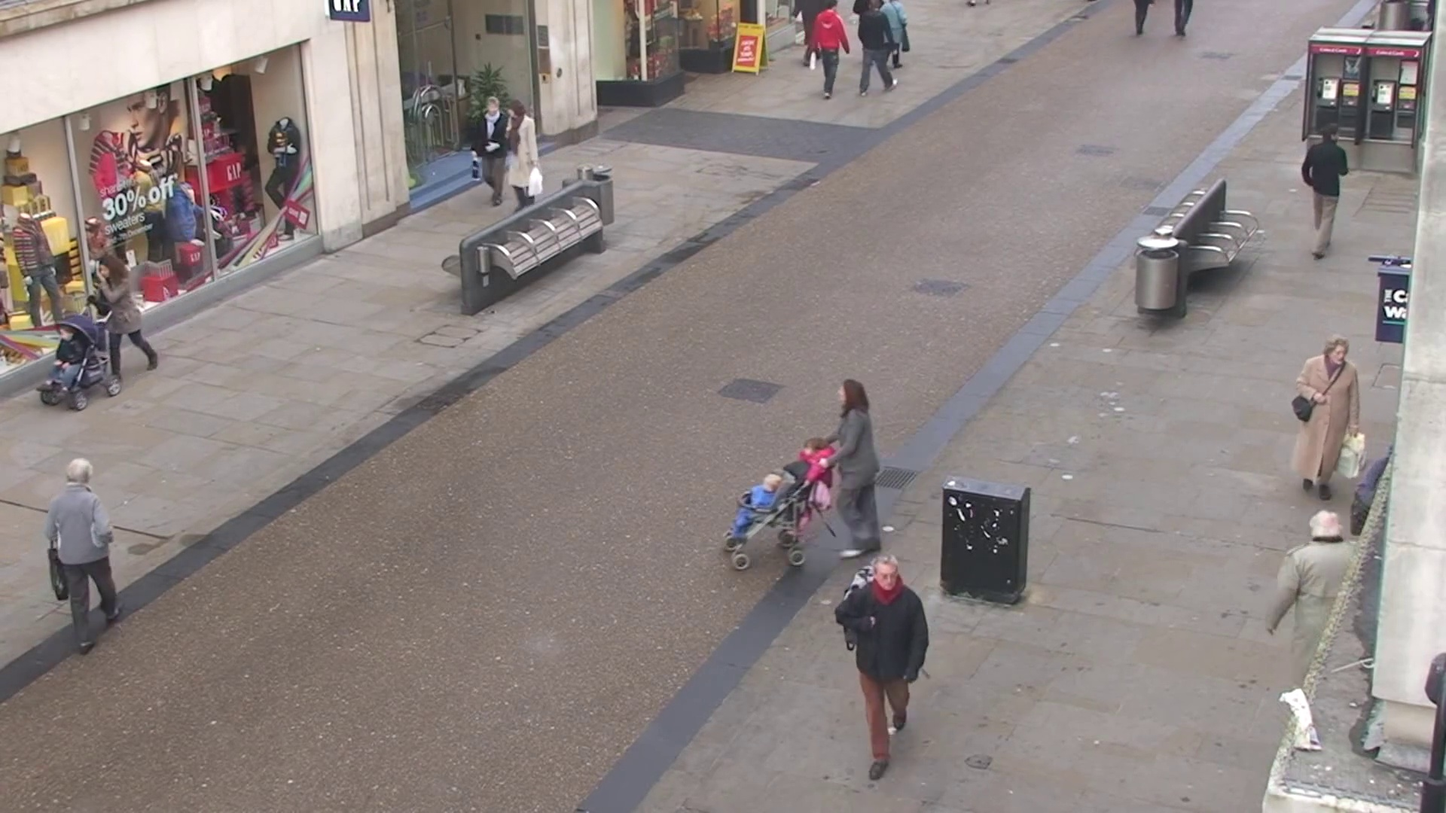person: (834, 553, 929, 784), (1265, 510, 1356, 751), (44, 457, 120, 653), (1291, 336, 1362, 496), (93, 250, 160, 376), (831, 380, 880, 552), (1299, 129, 1350, 260), (472, 96, 515, 204), (807, 2, 850, 98), (505, 102, 545, 205), (855, 0, 893, 93), (884, 0, 910, 65)
